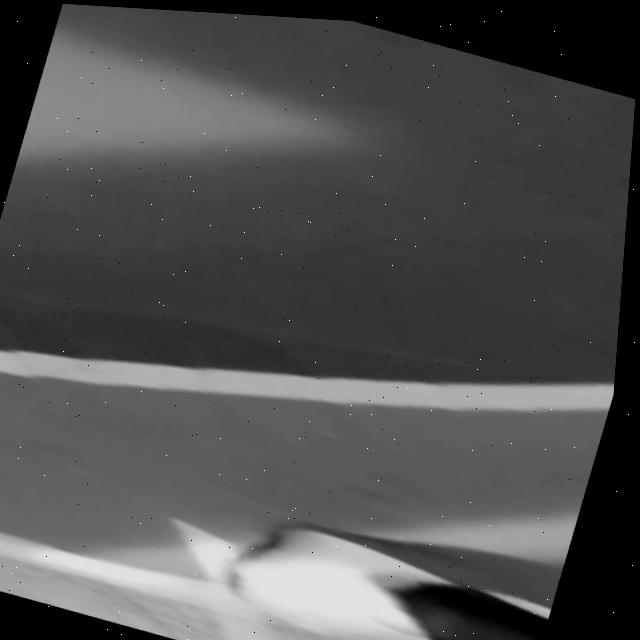right: (0, 348, 614, 410)
